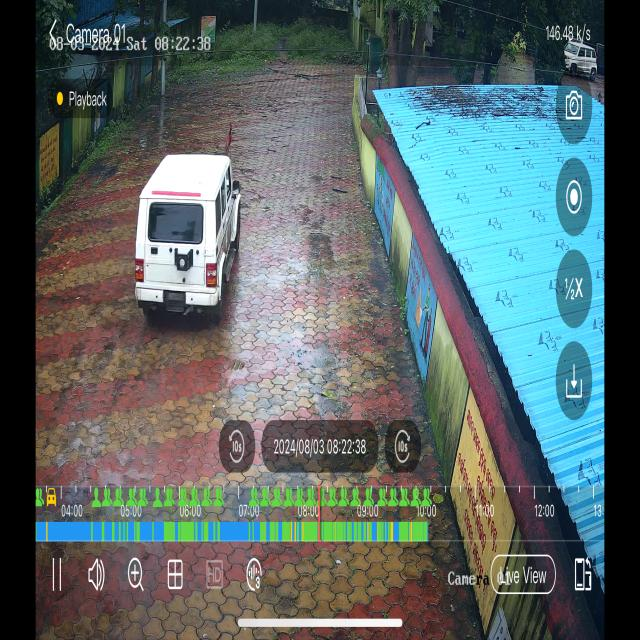light_vehicle: (128, 138, 238, 324)
